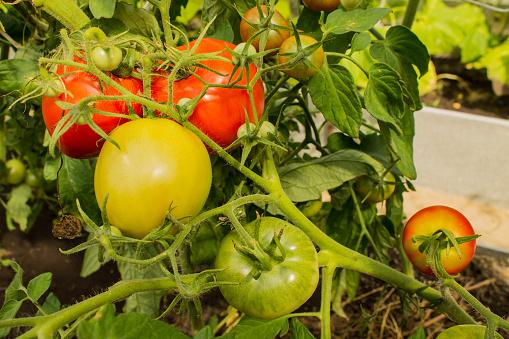Masak: (155, 37, 280, 146), (380, 205, 491, 289), (40, 72, 148, 155)
Mengkal: (81, 119, 219, 238), (212, 214, 325, 320), (285, 36, 333, 78), (239, 5, 285, 48), (79, 42, 122, 70)
